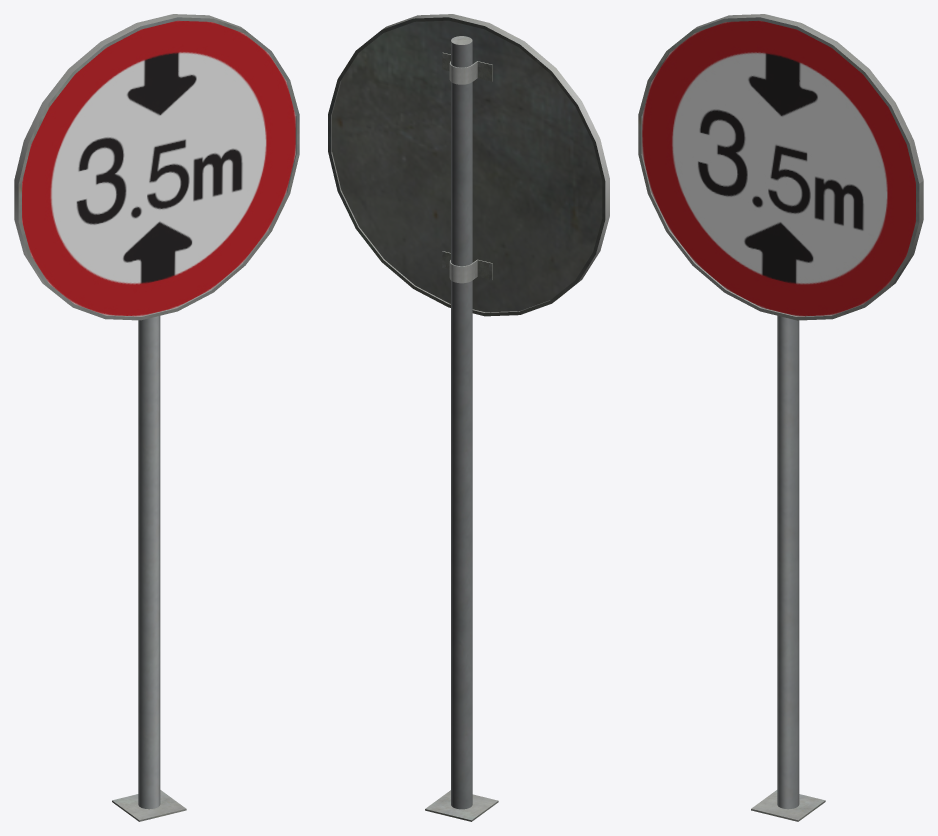
3 views of the same model, side by side, from view 1: azimuth 30°, elevation 25°; view 2: azimuth 150°, elevation 25°; view 3: azimuth 330°, elevation 25° (orthographic).
Visible parts, largest first — view 1: MainBuilding; view 2: MainBuilding; view 3: MainBuilding.
Part boxes in pixels (x1,y1,x2,y2): MainBuilding: (14, 14, 299, 821); MainBuilding: (328, 14, 609, 821); MainBuilding: (638, 14, 923, 821).
Size of the model in its own units: 0.8923 by 2.4 by 0.15.
Materials: 1 (1 with a texture image).
